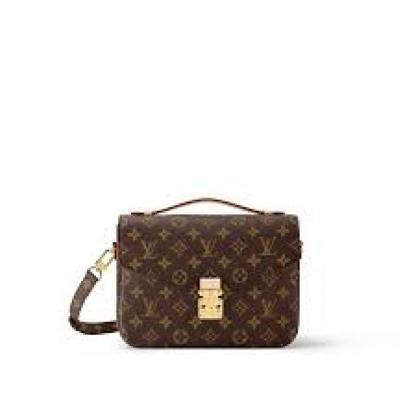bag: (63, 192, 322, 359)
